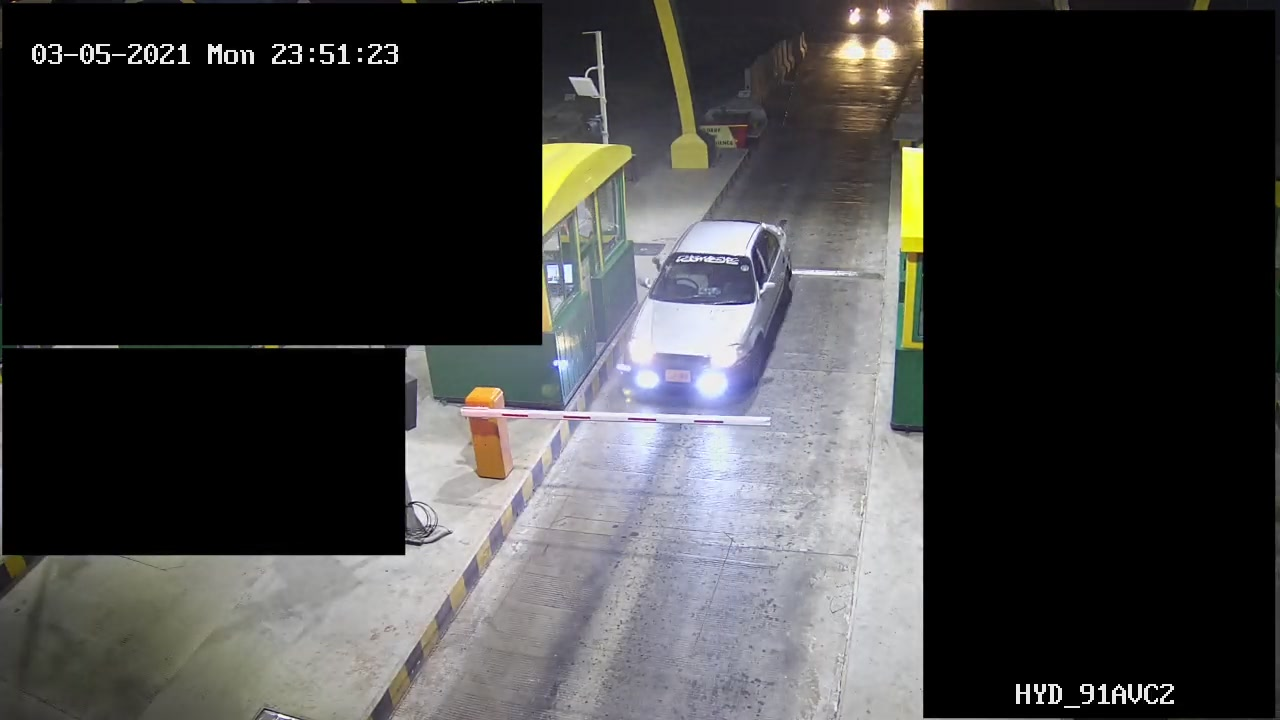F1: (617, 207, 798, 413)
